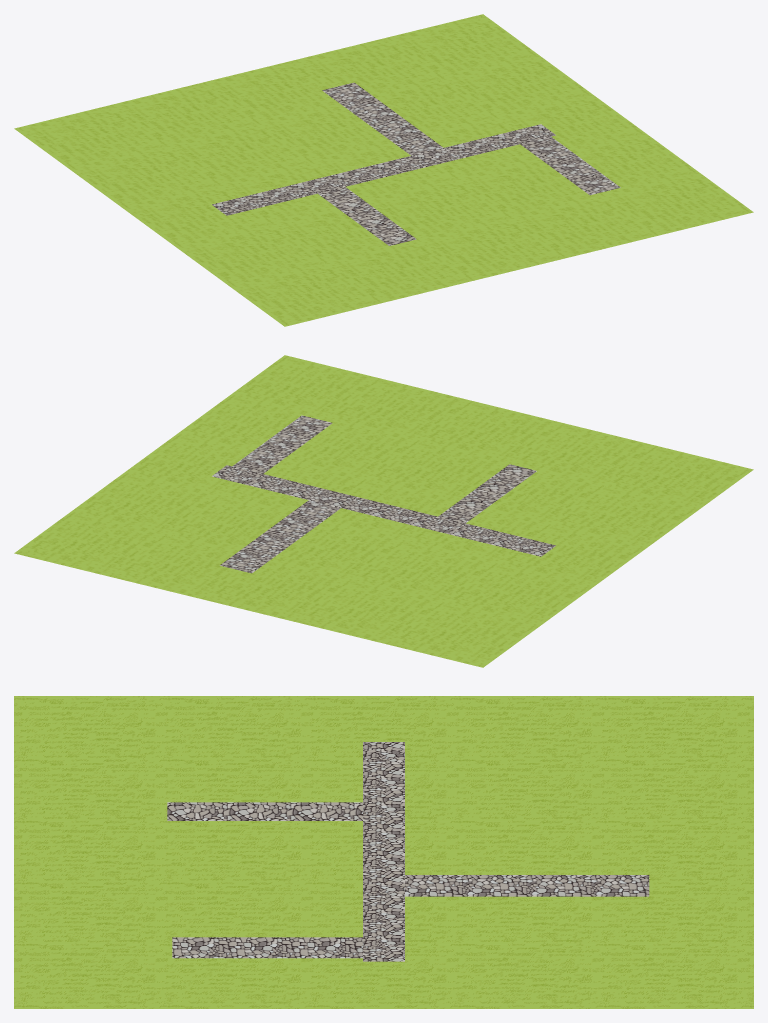
File: camino de piedras.fbx
The picture shows the model from 3 angles, top to bottom: view 1: azimuth 30°, elevation 25°; view 2: azimuth 150°, elevation 25°; view 3: azimuth 270°, elevation 25°; orthographic projection. The views are drawn at different scales.
Parts seen in each view (by area): view 1: Plane, camino; view 2: Plane, camino; view 3: Plane, camino.
Boxes of the visible parts, x1,y1,x2,y2 form: Plane: [14, 14, 753, 326]; camino: [212, 82, 620, 245]; Plane: [14, 355, 753, 667]; camino: [212, 415, 555, 573]; Plane: [14, 696, 753, 1008]; camino: [167, 742, 649, 961].
Bounding box in the file's own units: 3530 × 3.68 × 3530.
2 materials, 2 textured.
